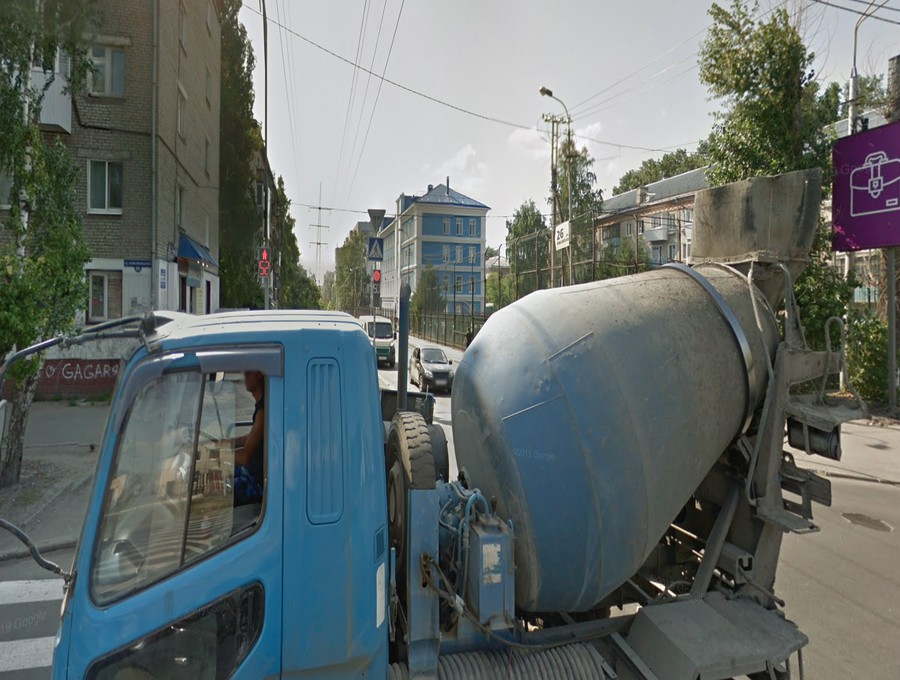Traffic Light-red: (255, 249, 275, 281)
